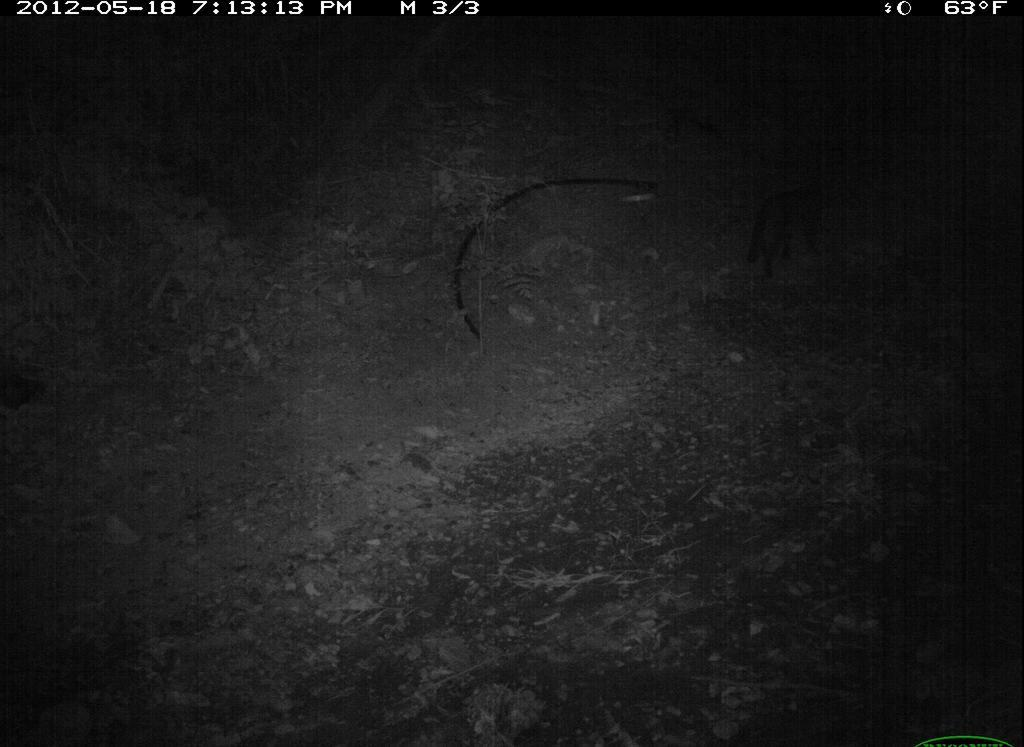cat: (728, 161, 871, 340)
